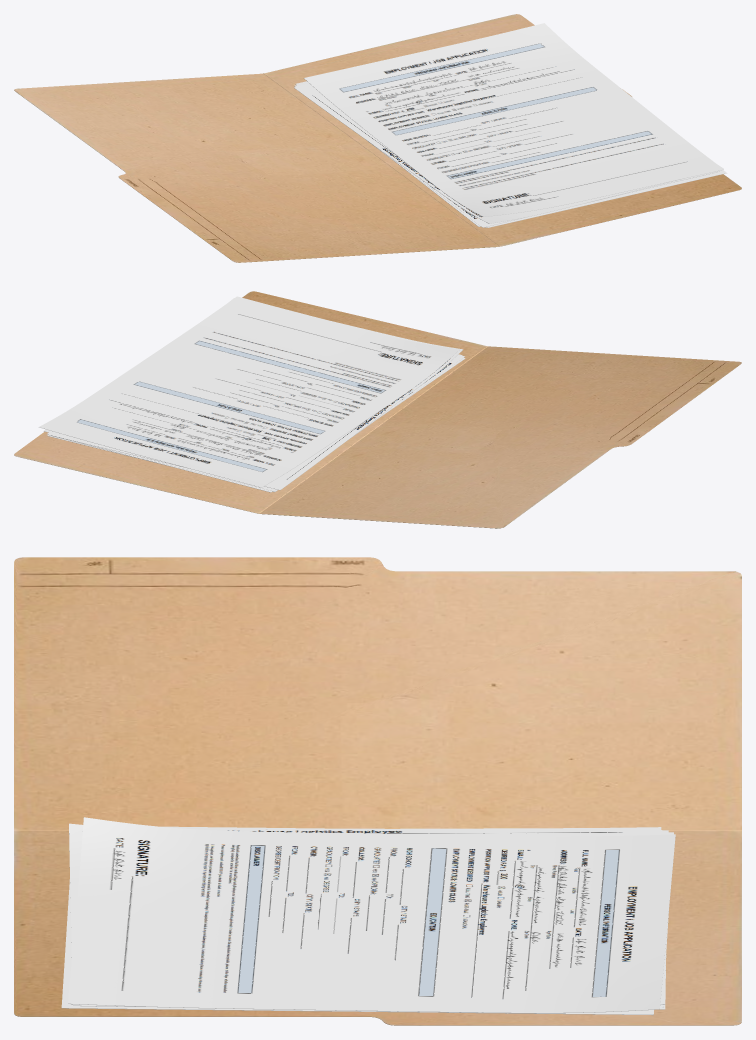
The model's file is job application + file.fbx.
3 views of the same model, one above another, from view 1: azimuth 30°, elevation 25°; view 2: azimuth 150°, elevation 25°; view 3: azimuth 270°, elevation 25° (orthographic). The views are drawn at different scales.
Visible parts, largest first — view 1: Plane.008, Plane.003, Plane.007, Plane.002, Plane.001, Plane.006; view 2: Plane.008, Plane.003, Plane.007, Plane.002, Plane.006, Plane.005; view 3: Plane.008, Plane.003, Plane.007, Plane.002, Plane.001.
Boxes of the visible parts, left/top/right/bottom form: Plane.008: left=14, top=73, right=499, bottom=262; Plane.003: left=304, top=23, right=723, bottom=216; Plane.007: left=264, top=14, right=741, bottom=246; Plane.002: left=294, top=83, right=723, bottom=223; Plane.001: left=487, top=170, right=726, bottom=227; Plane.006: left=294, top=82, right=719, bottom=227; Plane.008: left=259, top=346, right=741, bottom=528; Plane.003: left=39, top=296, right=459, bottom=487; Plane.007: left=14, top=291, right=487, bottom=513; Plane.002: left=51, top=298, right=463, bottom=490; Plane.006: left=49, top=354, right=464, bottom=491; Plane.005: left=46, top=357, right=465, bottom=492; Plane.008: left=14, top=557, right=741, bottom=830; Plane.003: left=68, top=817, right=675, bottom=1013; Plane.007: left=14, top=830, right=741, bottom=1025; Plane.002: left=69, top=823, right=665, bottom=1006; Plane.001: left=61, top=879, right=653, bottom=1015.
Bounding box in the file's own units: 0.4632 × 0.043 × 0.365.
2 materials, 2 textured.
